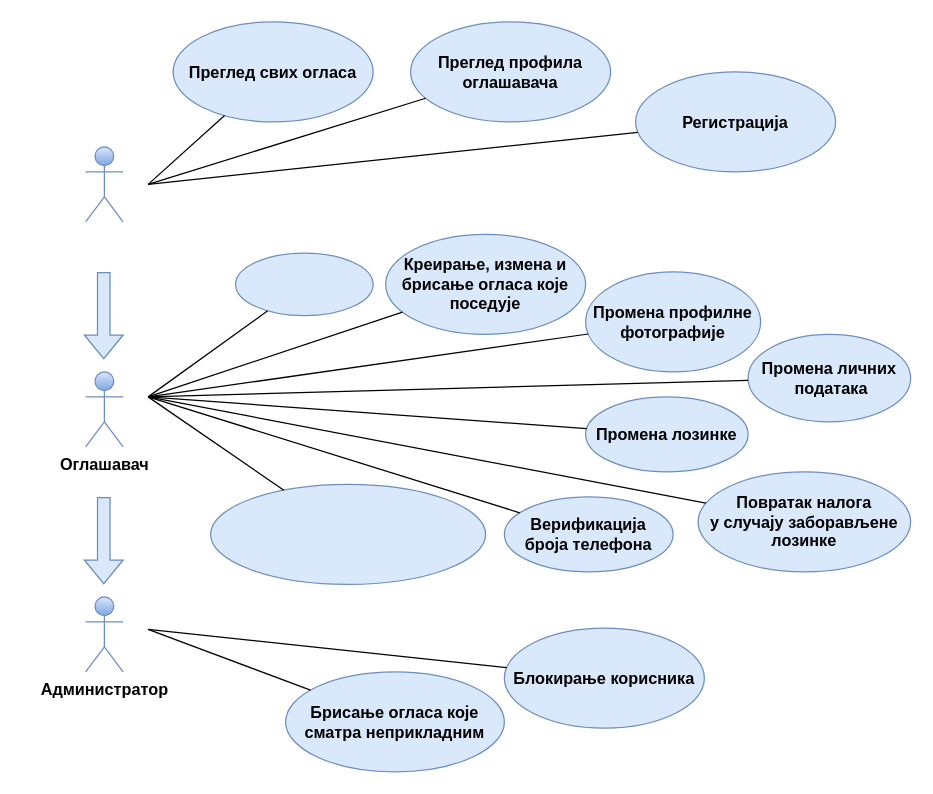
Some shapes in this 933 by 794 pixel diagram are drawn without their labels. Each missing label, with the centre of its shape:
"Неаутентификовани корисник" goes at point 103,184.
"Пријава" goes at point 303,284.
"Укључивање и искључивање двофакторске аутентификације" goes at point 347,533.
